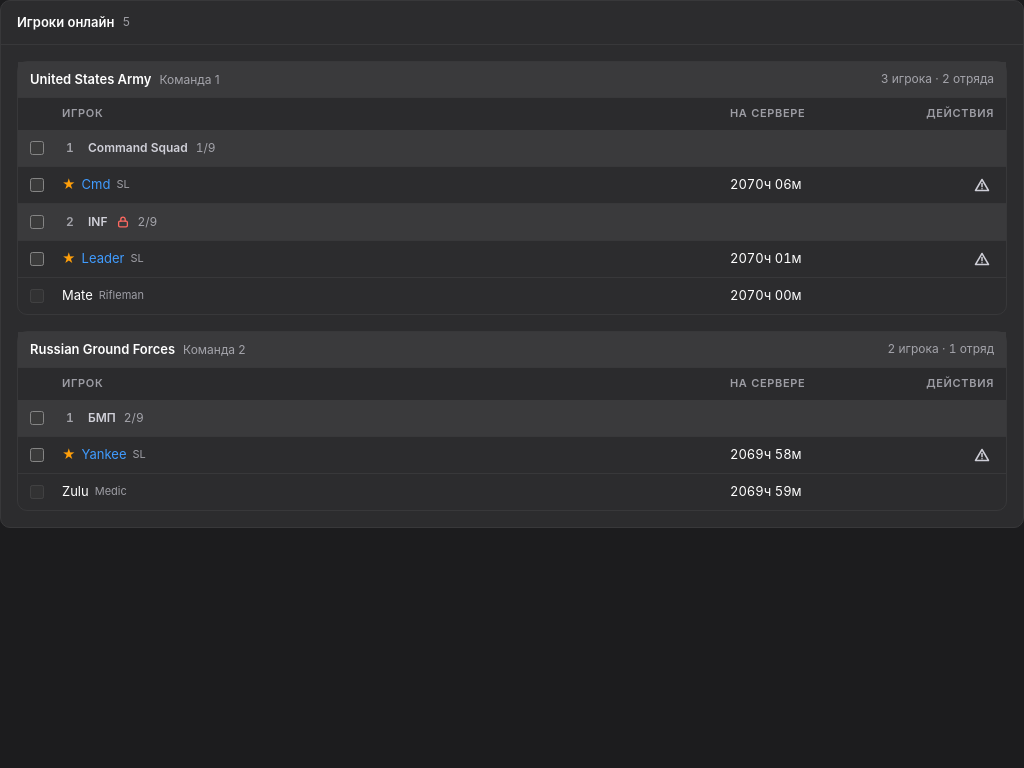
Scenario: LivePlayers — устойчивость к ответам API › shows a Russian message for a request-level 403 instead of the machine code
Expected: the link "Leader" is shown, [82,249,124,268]
Click the button named "Предупредить: Leader": (982, 259) [970,247,994,271]
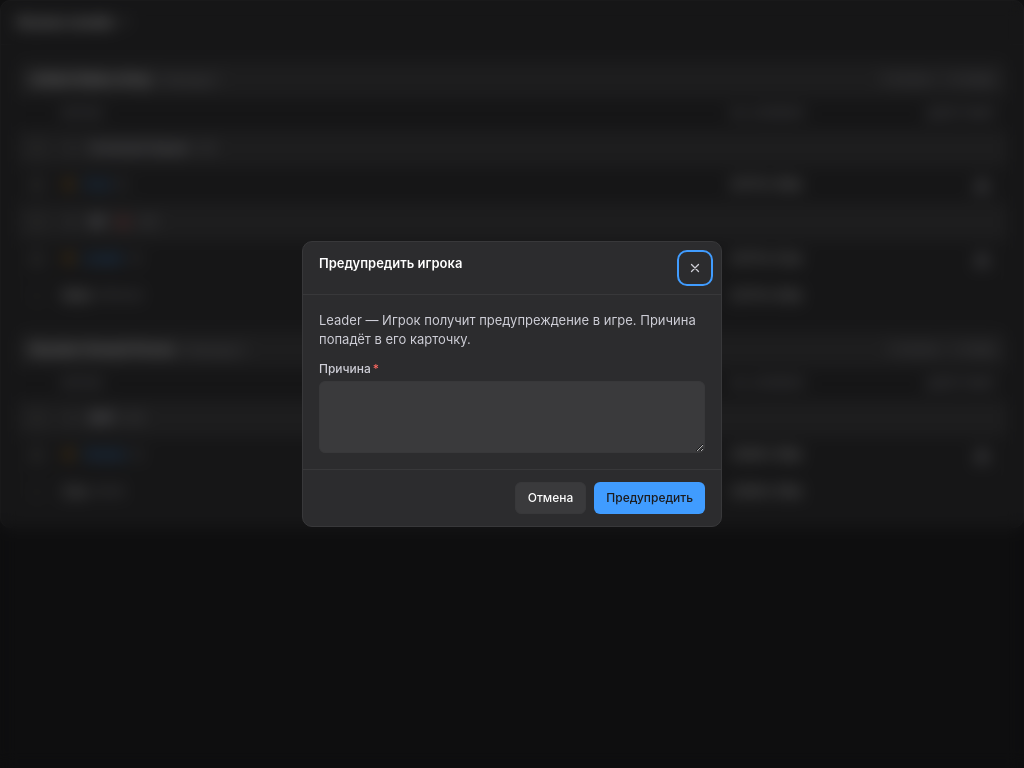
In the text box labelled "Причина*": (512, 417) [319,381,705,453], type "мат"
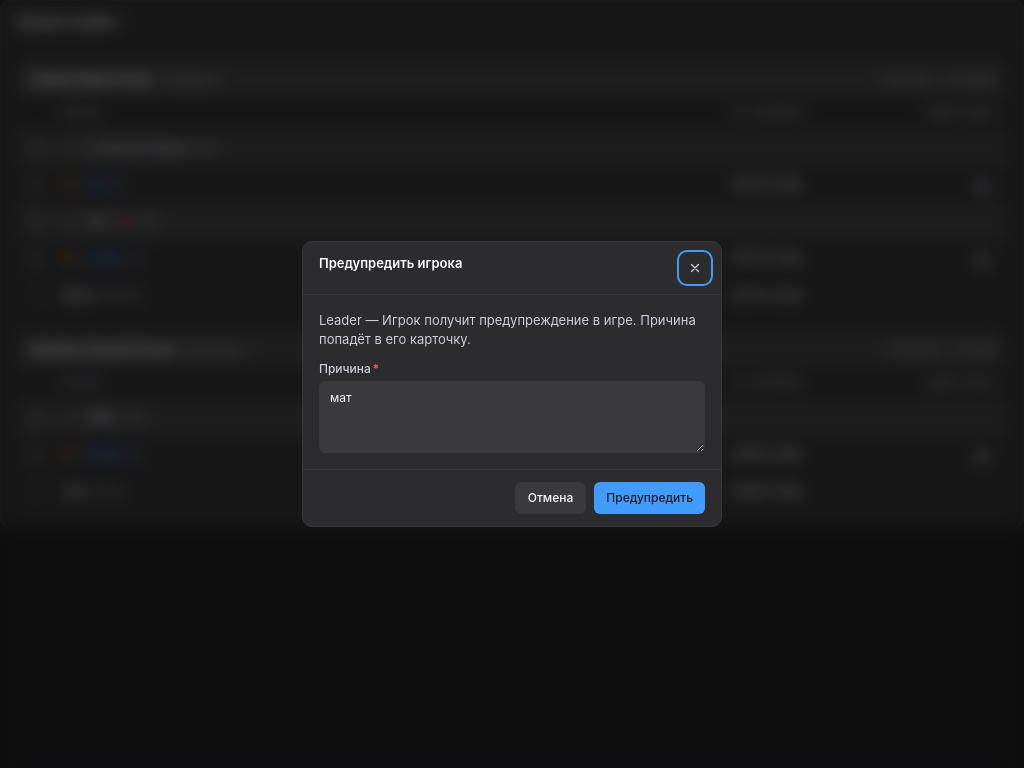
Click the button "Предупредить": (650, 498) [594,482,705,514]
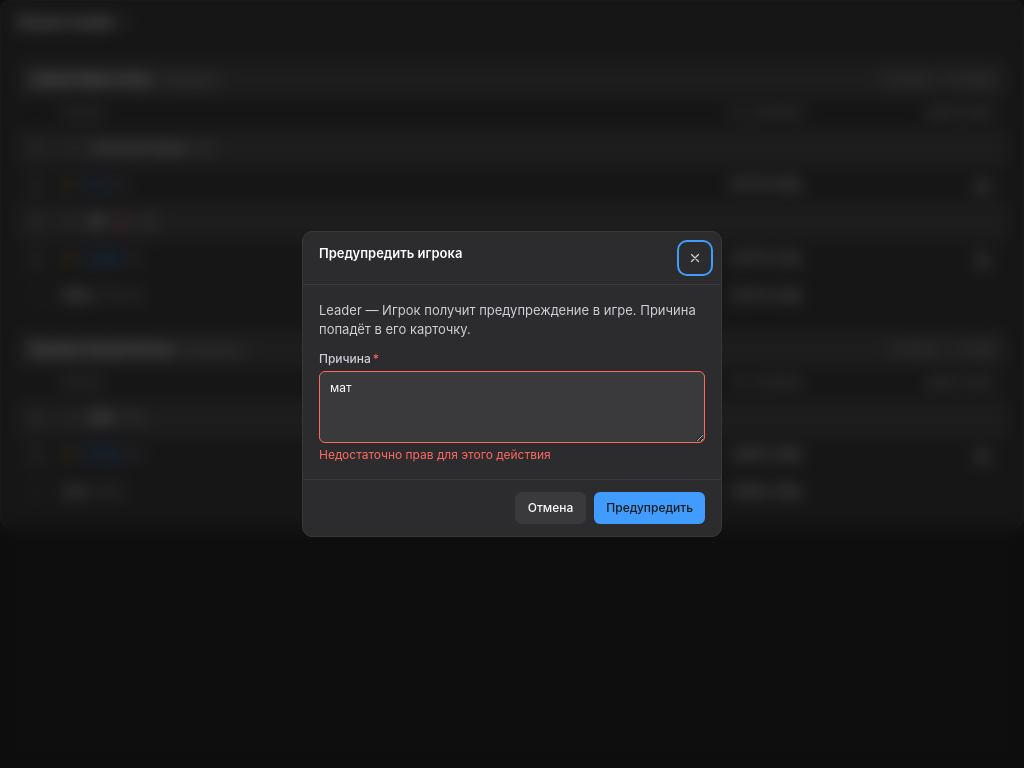
Expected: the message does not show "forbidden", [319,447,551,462]
Expected: the message shows "Недостаточно прав", [319,447,551,462]
